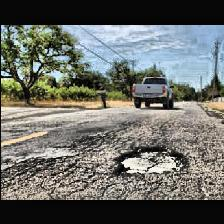pothole: (115, 144, 185, 176)
